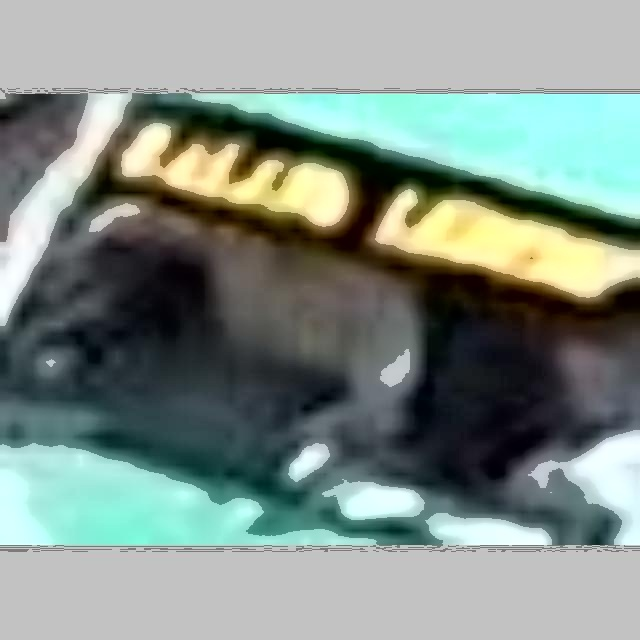tidak-pakai: (122, 169, 395, 433)
